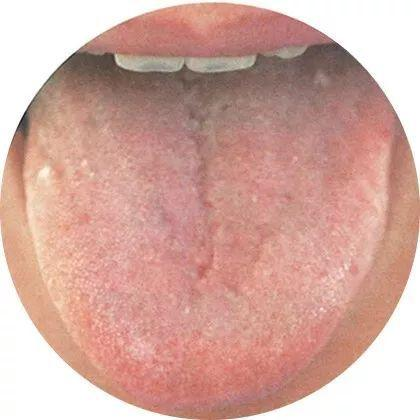baitaishe: (24, 49, 396, 410)
liewenshe: (179, 77, 230, 281)
